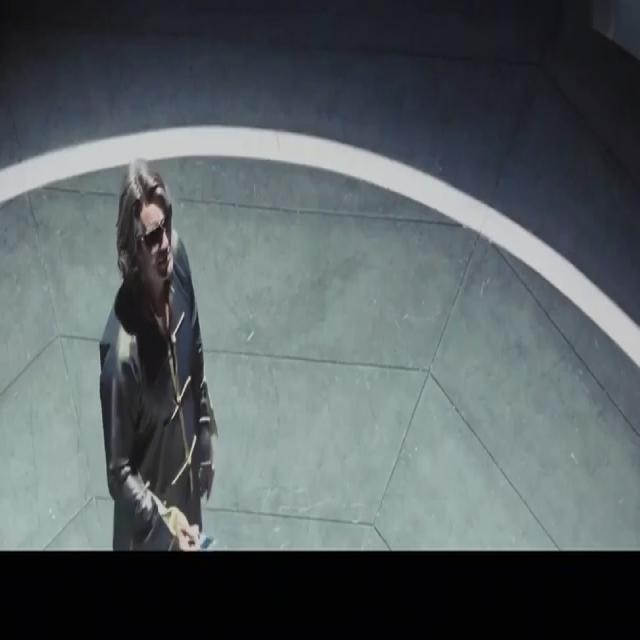non-fight: (96, 154, 218, 549)
